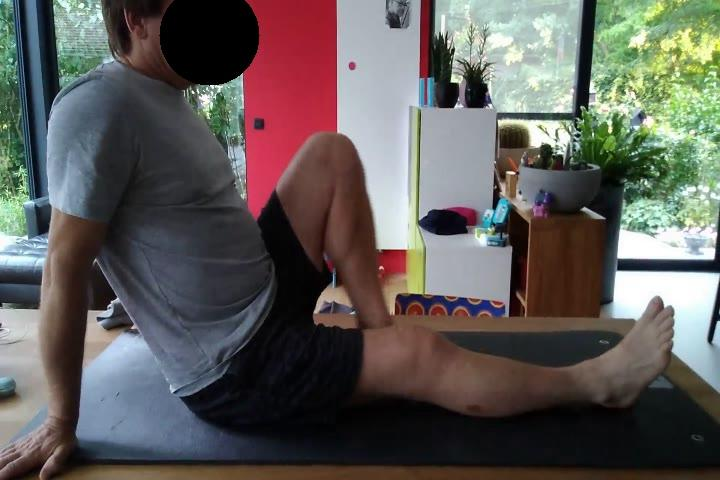lower_body: (182, 131, 676, 428)
